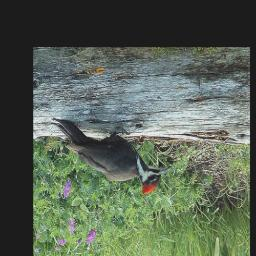Woodpecker: (52, 120, 171, 195)
